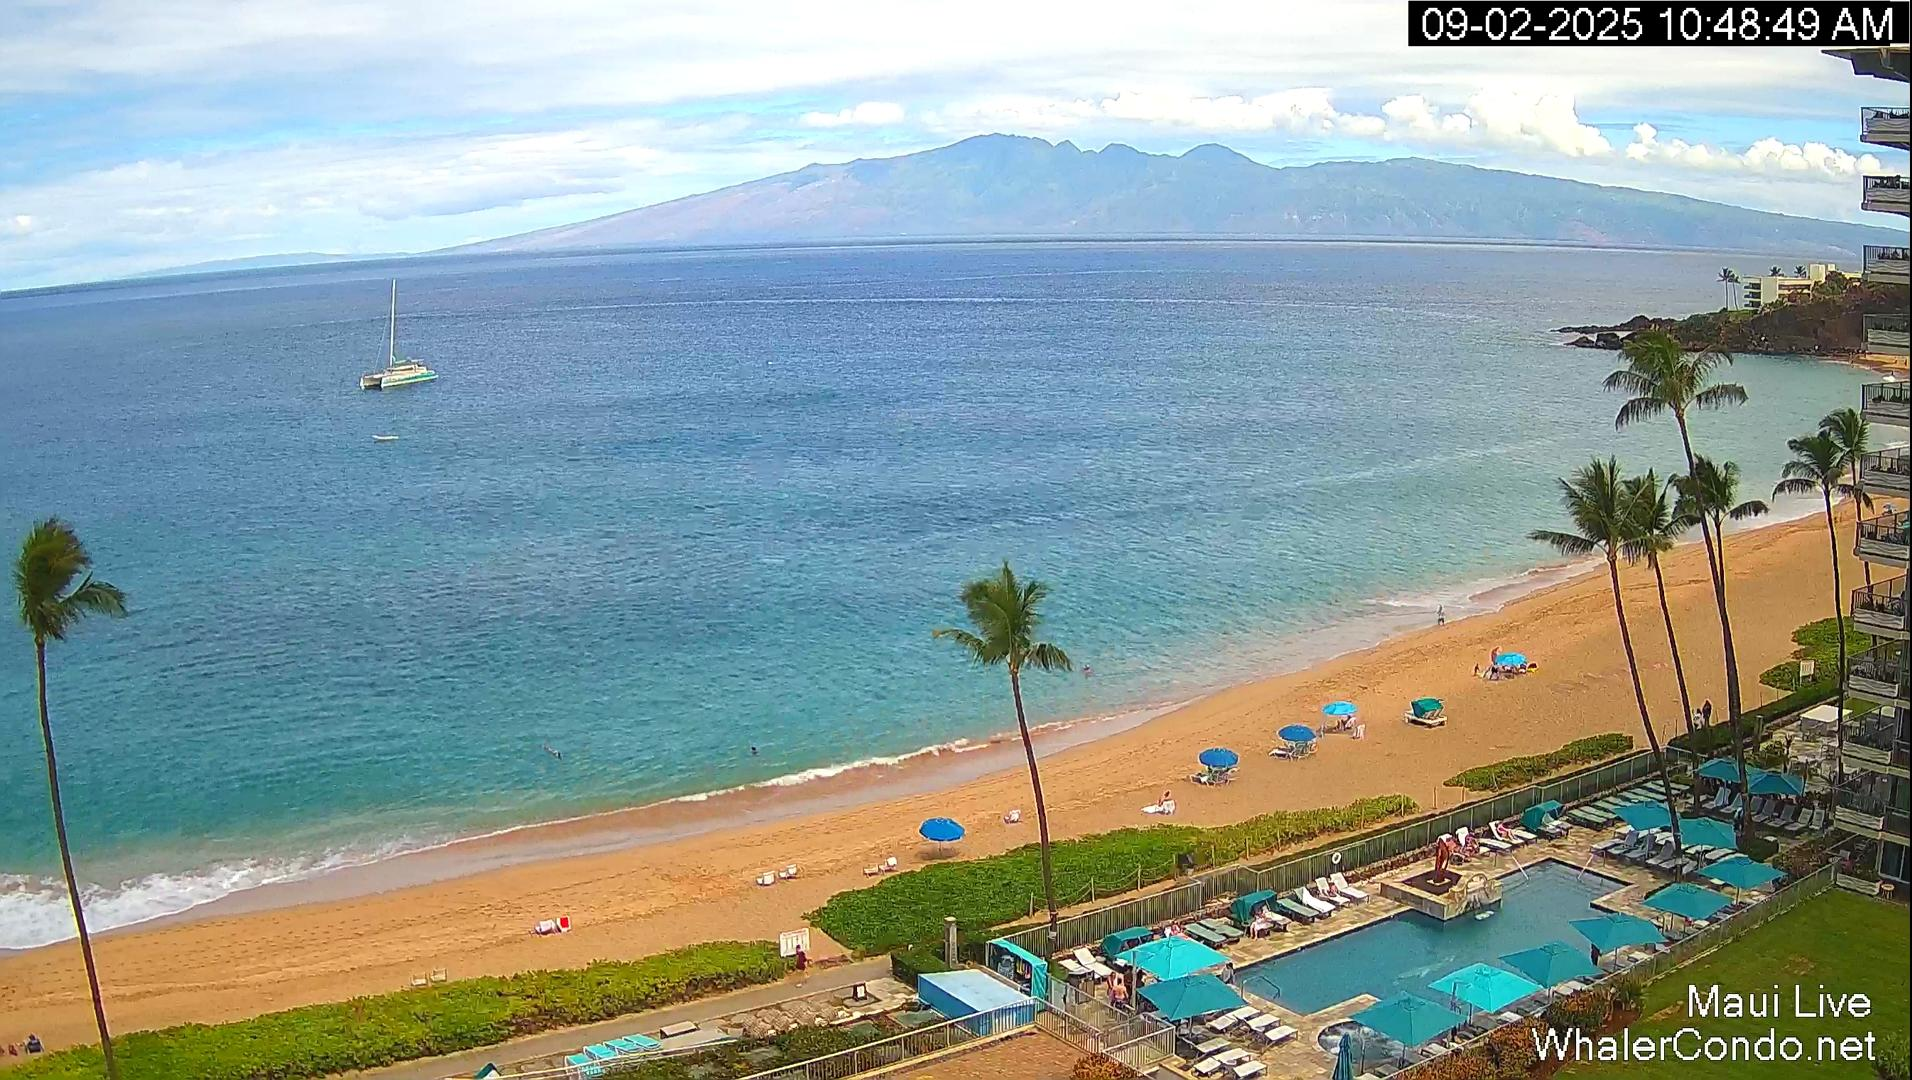boat: (358, 278, 438, 391), (372, 434, 398, 441)
person: (794, 944, 810, 987), (1445, 835, 1466, 860), (1464, 832, 1487, 853), (1112, 978, 1128, 1008), (1496, 818, 1516, 842), (1249, 910, 1266, 938), (541, 739, 560, 759), (26, 1034, 44, 1054), (1106, 974, 1116, 1008), (1222, 962, 1236, 986), (1702, 700, 1712, 728), (1490, 646, 1502, 666), (748, 745, 762, 762), (1158, 790, 1171, 807), (1694, 708, 1704, 730), (1326, 881, 1339, 897), (1436, 604, 1445, 626), (1083, 661, 1094, 677), (1171, 919, 1181, 933)
